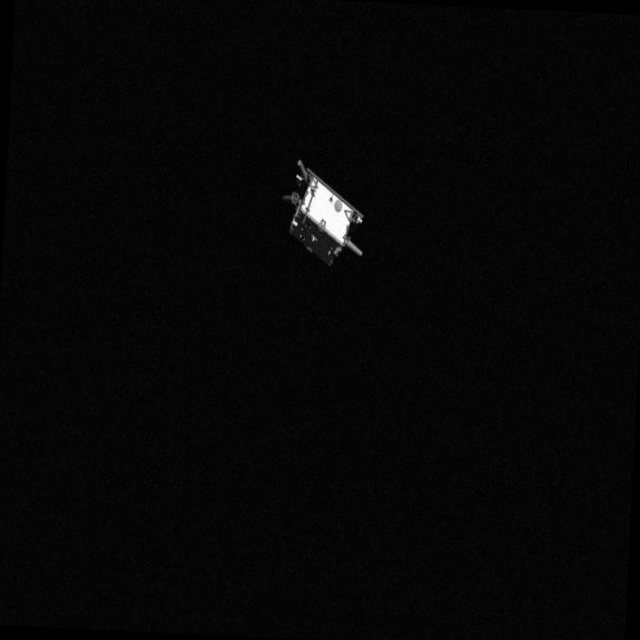medium_debris: (268, 156, 384, 275)
